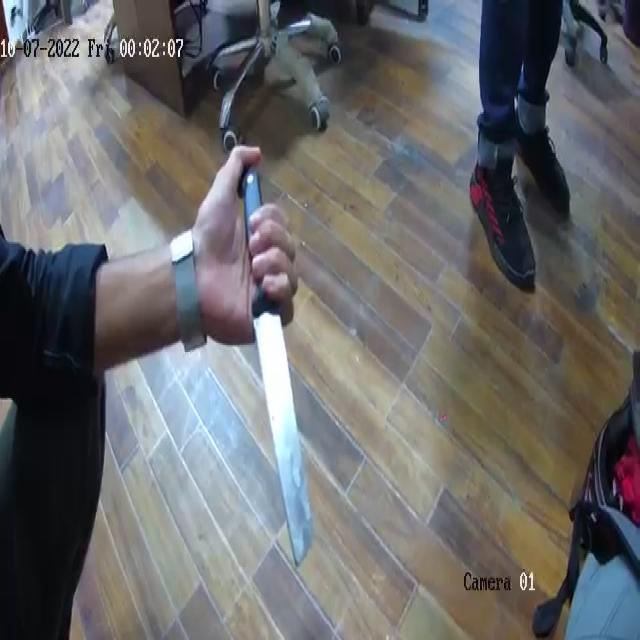Knife: (233, 139, 314, 569)
